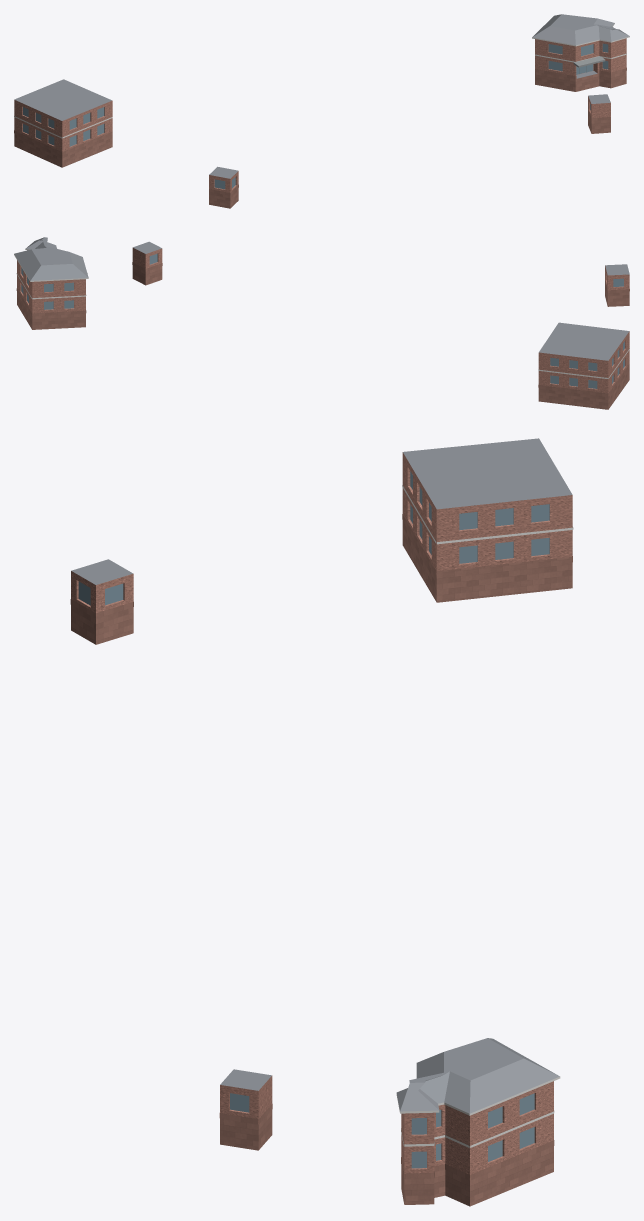
3 renders of one model, top to bottom at view 1: azimuth 30°, elevation 25°; view 2: azimuth 150°, elevation 25°; view 3: azimuth 270°, elevation 25°, orthographic. The views are drawn at different scales.
Parts seen in each view (by area): view 1: kaiHelpW8_3__wall, kaiHelpW8_3__roof, kaiHelpW8_3__base, kaiHelpW8_3__glass, kaiHelpW8_3__trim; view 2: kaiHelpW8_3__wall, kaiHelpW8_3__roof, kaiHelpW8_3__base, kaiHelpW8_3__glass, kaiHelpW8_3__trim; view 3: kaiHelpW8_3__wall, kaiHelpW8_3__roof, kaiHelpW8_3__base, kaiHelpW8_3__glass, kaiHelpW8_3__trim.
Boxes of the visible parts, x1=… form: kaiHelpW8_3__wall: x1=14, y1=38, x2=626, y2=192; kaiHelpW8_3__roof: x1=14, y1=14, x2=629, y2=178; kaiHelpW8_3__base: x1=14, y1=68, x2=626, y2=208; kaiHelpW8_3__glass: x1=23, y1=43, x2=608, y2=189; kaiHelpW8_3__trim: x1=14, y1=23, x2=629, y2=138; kaiHelpW8_3__wall: x1=17, y1=248, x2=629, y2=395; kaiHelpW8_3__roof: x1=14, y1=237, x2=629, y2=360; kaiHelpW8_3__base: x1=16, y1=262, x2=629, y2=409; kaiHelpW8_3__glass: x1=21, y1=253, x2=624, y2=388; kaiHelpW8_3__trim: x1=14, y1=249, x2=629, y2=378; kaiHelpW8_3__wall: x1=71, y1=452, x2=572, y2=1179; kaiHelpW8_3__roof: x1=71, y1=438, x2=572, y2=1113; kaiHelpW8_3__base: x1=70, y1=514, x2=572, y2=1206; kaiHelpW8_3__glass: x1=78, y1=471, x2=549, y2=1168; kaiHelpW8_3__trim: x1=396, y1=485, x2=573, y2=1147.
Bounding box in the file's own units: 131 × 21.6 × 48.78.
8 materials, 2 textured.
